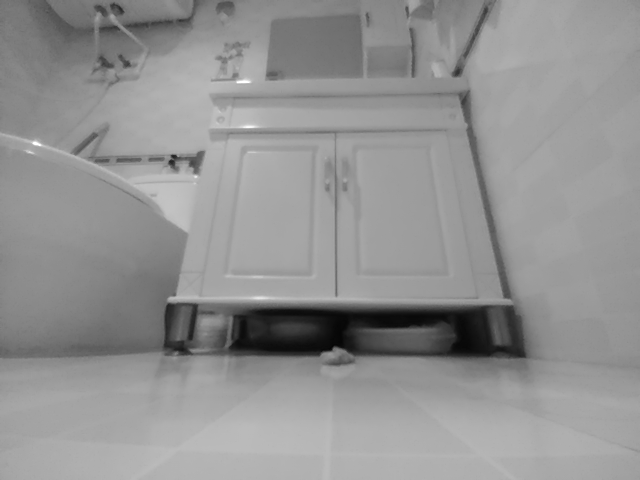pet feces: (322, 345, 357, 366)
